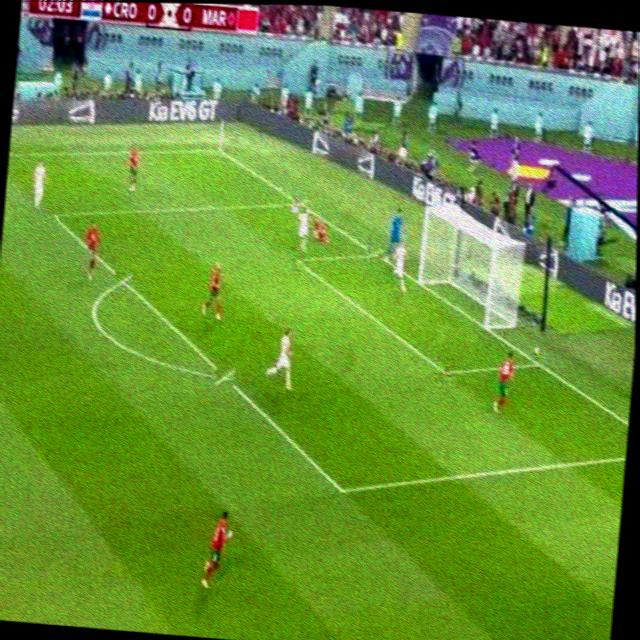bigarea_bottom_inner: (329, 473, 353, 504)
bigarea_top_inner: (42, 201, 59, 224)
bigarea_top_outter: (291, 193, 307, 213)
bottom_arc_area_intersection: (214, 363, 235, 389)
corner: (208, 141, 227, 157)
smallarea_bottom_inner: (433, 354, 456, 385)
smallarea_bottom_outter: (528, 351, 546, 373)
smallarea_top_inner: (286, 246, 304, 271)
smallarea_top_outter: (366, 242, 383, 263)
top_arc_area_intersection: (113, 268, 133, 291)
